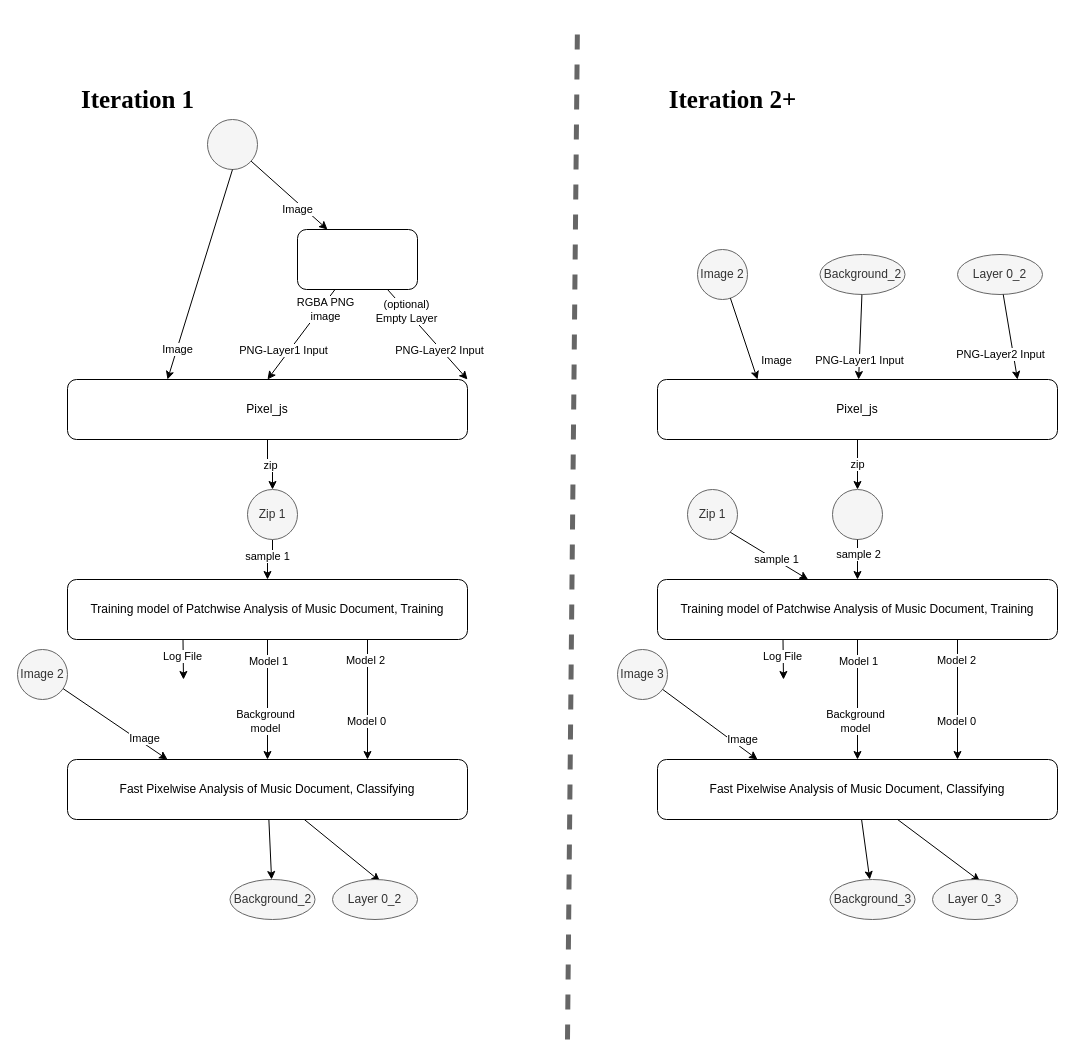
Image size: 1075x1060. Some labels were removed from this diagram. The centre of each missing label's shape, as x and y in pixels:
Background Removal: (x=357, y=259)
Image 1: (x=232, y=144)
Zip 2: (x=857, y=514)
